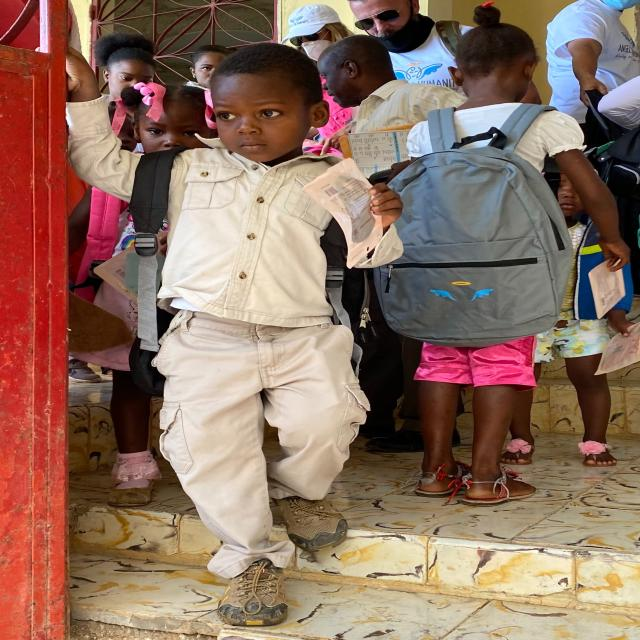backpack: (356, 102, 568, 343), (124, 150, 350, 274)
